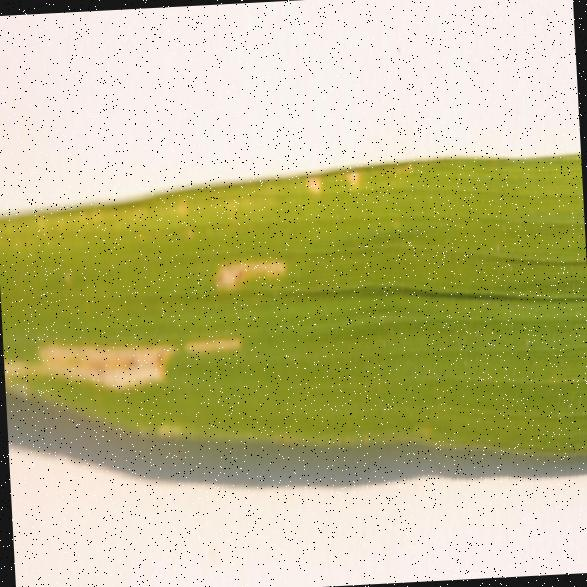Bacteria_Leaf_Blight: (10, 136, 421, 296), (4, 295, 260, 450)
